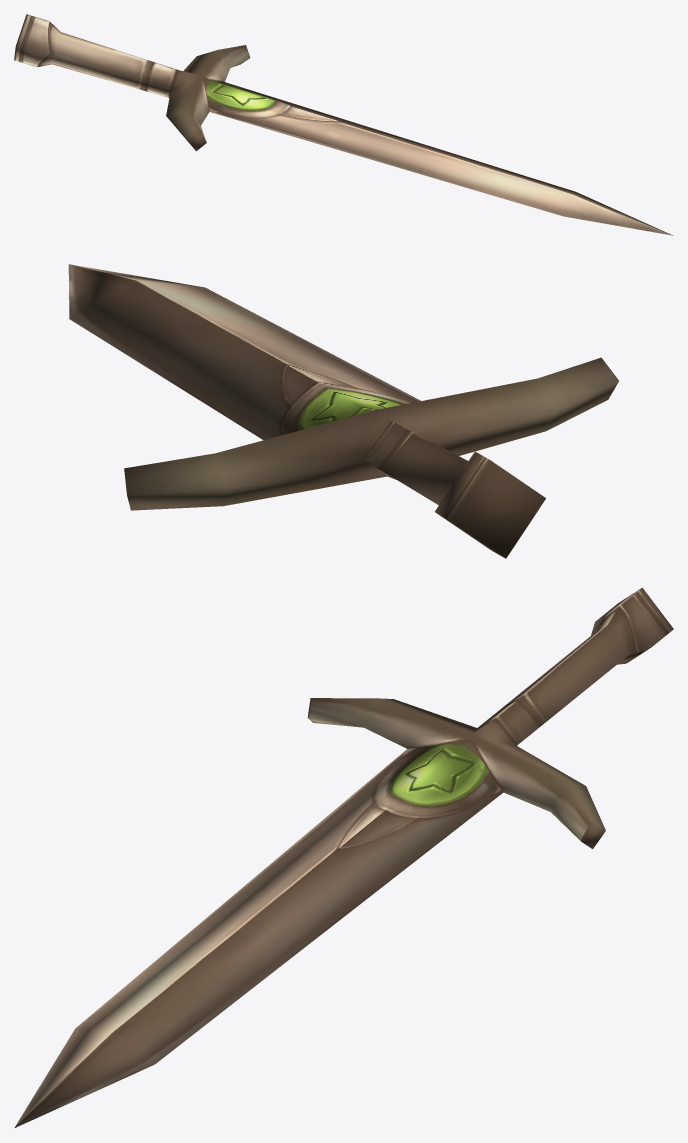
The model's file is Sword(34).obj.
3 views of the same model, one above another, from view 1: azimuth 30°, elevation 25°; view 2: azimuth 150°, elevation 25°; view 3: azimuth 270°, elevation 25° (orthographic). The views are drawn at different scales.
Visible parts, largest first — view 1: sword1_LOD003; view 2: sword1_LOD003; view 3: sword1_LOD003.
Boxes of the visible parts, x1,y1,x2,y2 form: sword1_LOD003: (14, 14, 672, 235); sword1_LOD003: (68, 264, 618, 558); sword1_LOD003: (14, 587, 673, 1127).
Bounding box in the file's own units: 1.04 × 0.3679 × 0.9181.
